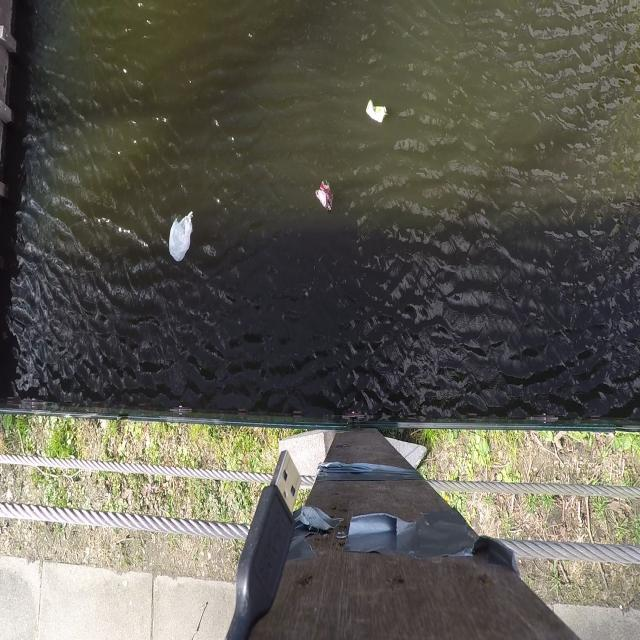Non plastique: (358, 91, 393, 128)
Sac plastique: (163, 203, 197, 266), (311, 173, 338, 220)
